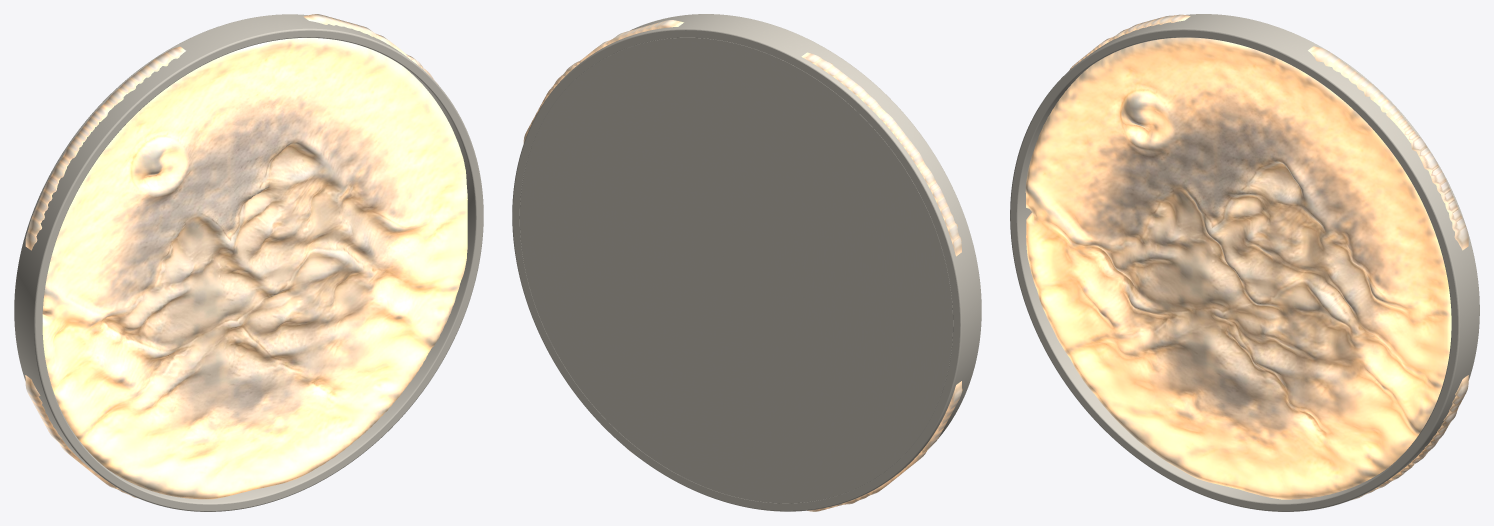
File: mountain-moon-round-led-wall-art.glb
3 views of the same model, side by side, from view 1: azimuth 30°, elevation 25°; view 2: azimuth 150°, elevation 25°; view 3: azimuth 330°, elevation 25° (orthographic).
Visible parts, largest first — view 1: Canvas, Frame; view 2: BackPan, Frame, Canvas; view 3: Canvas, Frame.
Boxes of the visible parts, box(x1,y1,x2,y2) form: Canvas: box(25, 14, 467, 499); Frame: box(14, 14, 483, 511); BackPan: box(519, 37, 953, 503); Frame: box(512, 14, 981, 511); Canvas: box(523, 20, 962, 511); Canvas: box(1025, 14, 1468, 499); Frame: box(1010, 14, 1479, 511).
Bounding box in the file's own units: 0.5004 × 0.5004 × 0.0406.
4 materials, 3 textured.
